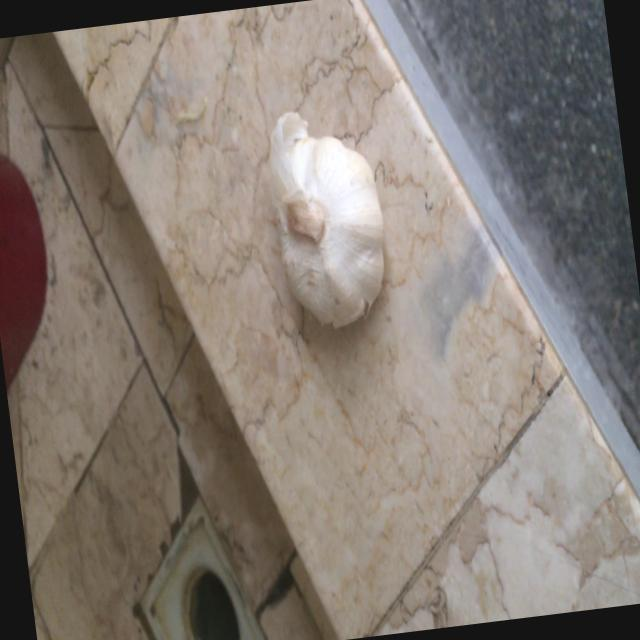garlic: (257, 96, 393, 334)
